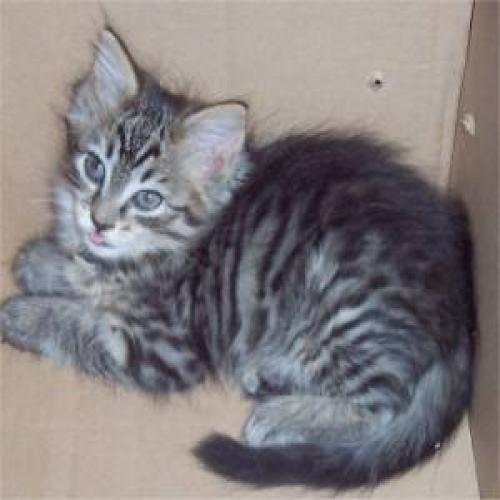cat-face: (53, 27, 236, 275)
